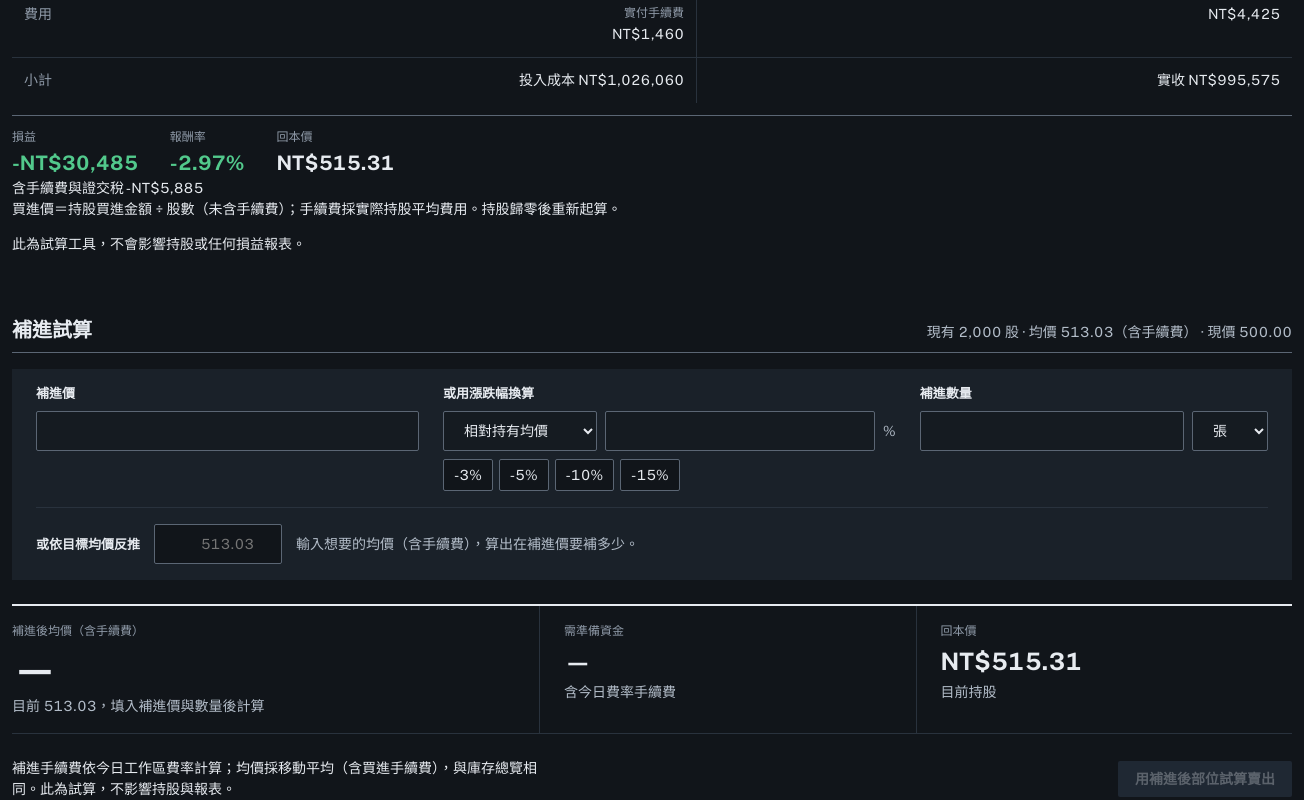
Test case: WhatIfTab 賣出試算＋補進試算（Task 197） › 目標均價到不了時直接說原因
(page scrolled)
Type "480" into the number field labelled "補進價" at (228, 431), box [36,411,419,451]
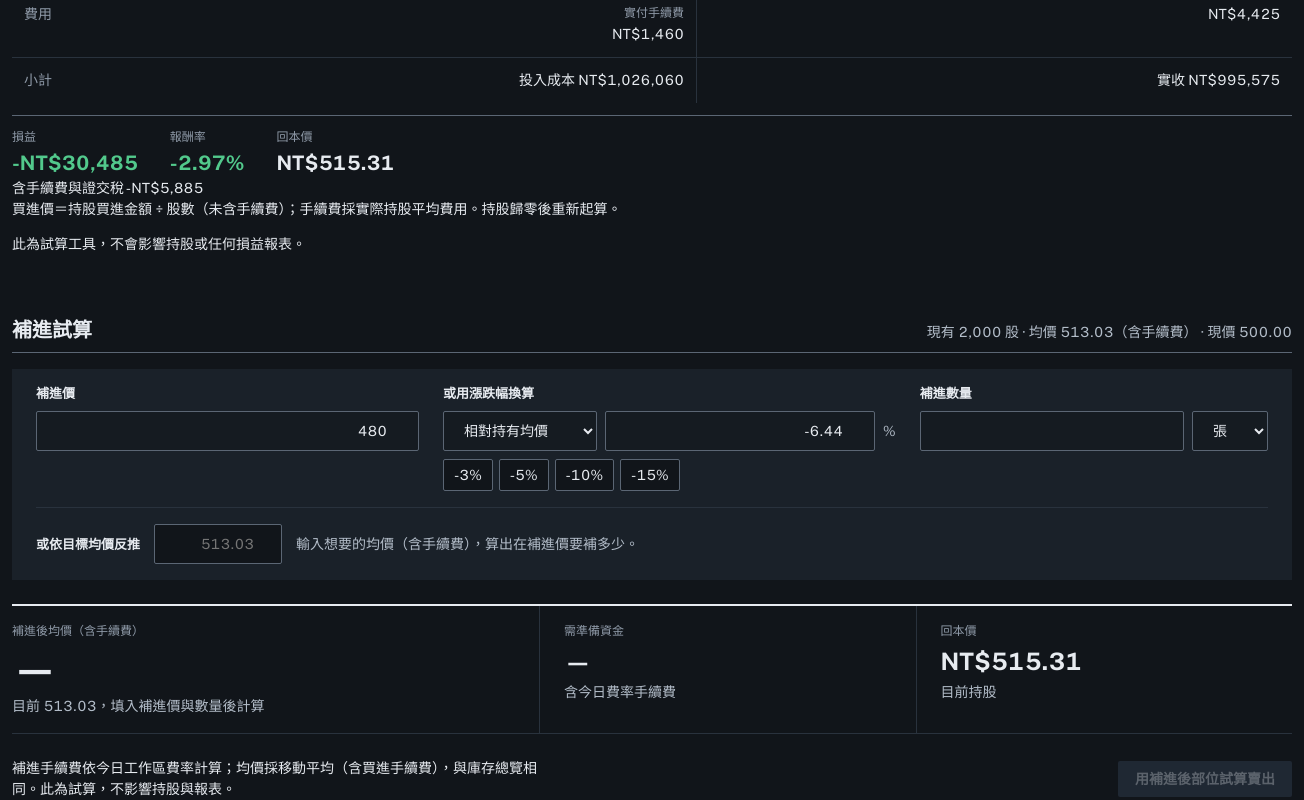
Type "480" into the number field labelled "或依目標均價反推" at (218, 544), box [154,524,282,564]
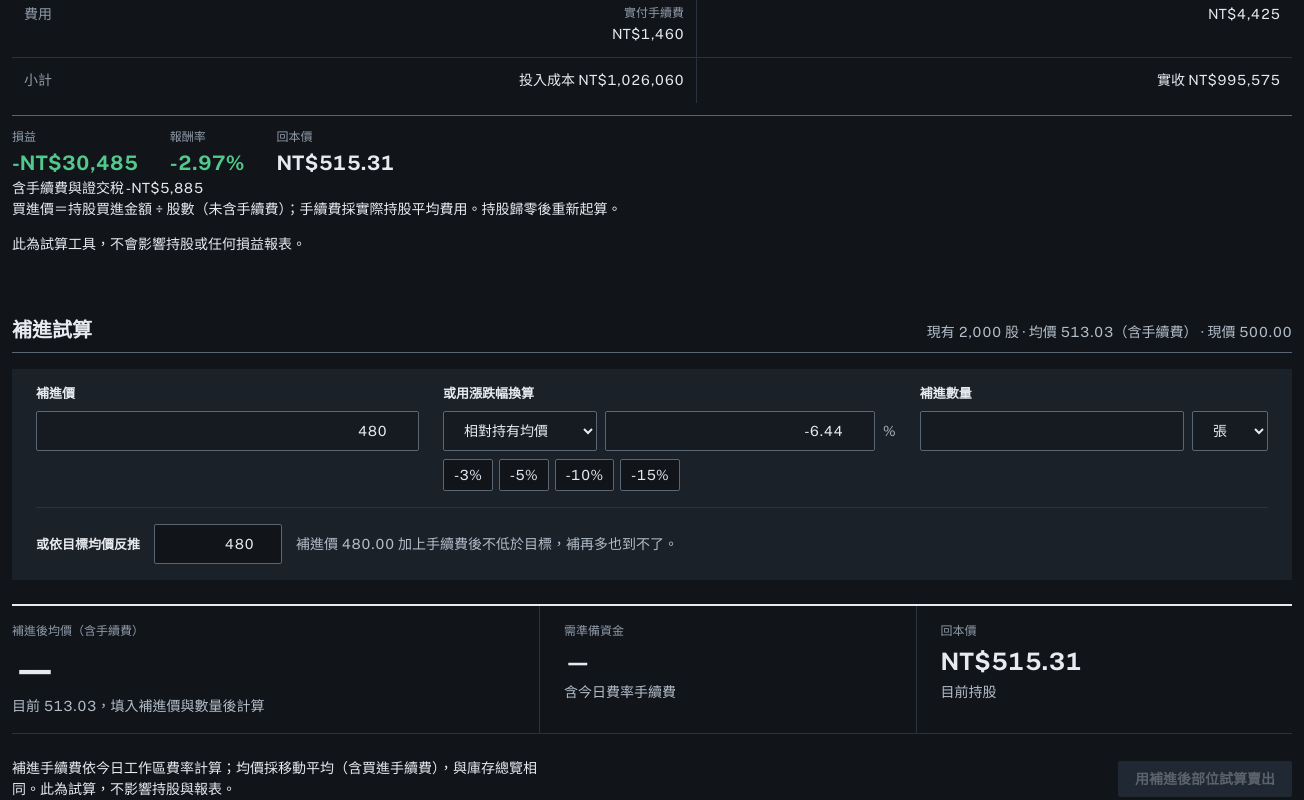
Result: the text with test id "addon-target-answer" shows "補再多也到不了" at [296,536,678,552]
